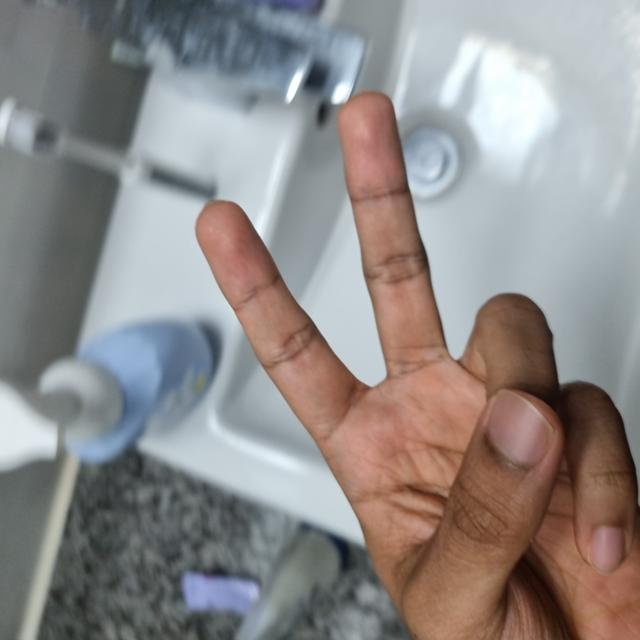Scissors: (0, 199, 546, 639)
